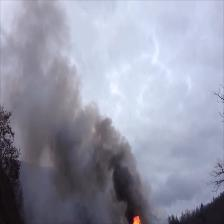fire: (131, 215, 140, 224)
smoke: (21, 8, 70, 149), (71, 110, 110, 205), (111, 139, 137, 214)
